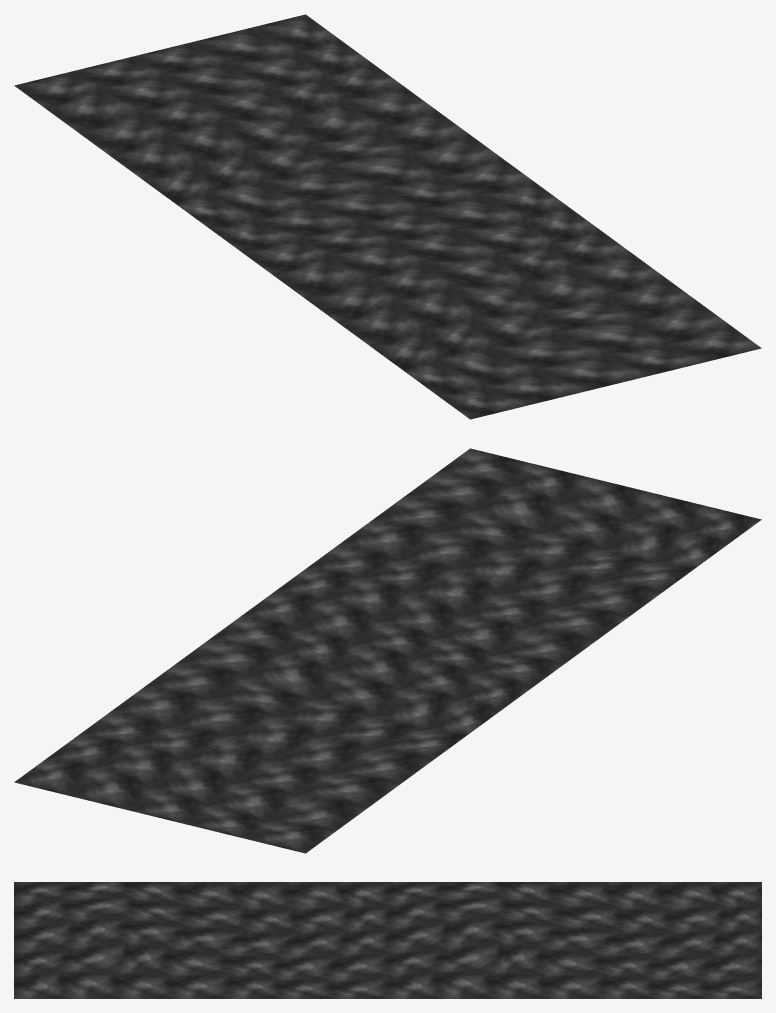
The model's file is mlha.FBX.
3 views of the same model, one above another, from view 1: azimuth 30°, elevation 25°; view 2: azimuth 150°, elevation 25°; view 3: azimuth 270°, elevation 25° (orthographic). The views are drawn at different scales.
Parts seen in each view (by area): view 1: Box02; view 2: Box02; view 3: Box02.
Boxes of the visible parts, x1,y1,x2,y2 form: Box02: (14,14,761,419); Box02: (14,448,761,853); Box02: (14,882,761,998).
Bounding box in the file's own units: 7268 × 0.000107 × 19692.
Materials: 1 (1 with a texture image).
